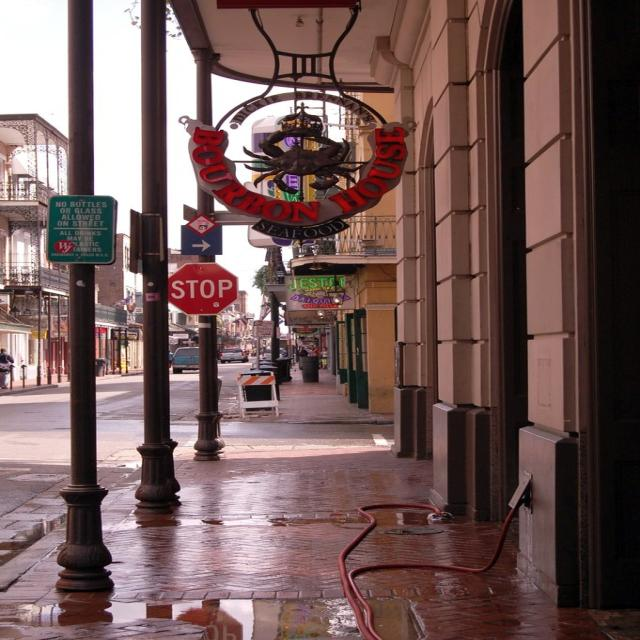Stop-sign: (170, 260, 237, 318)
